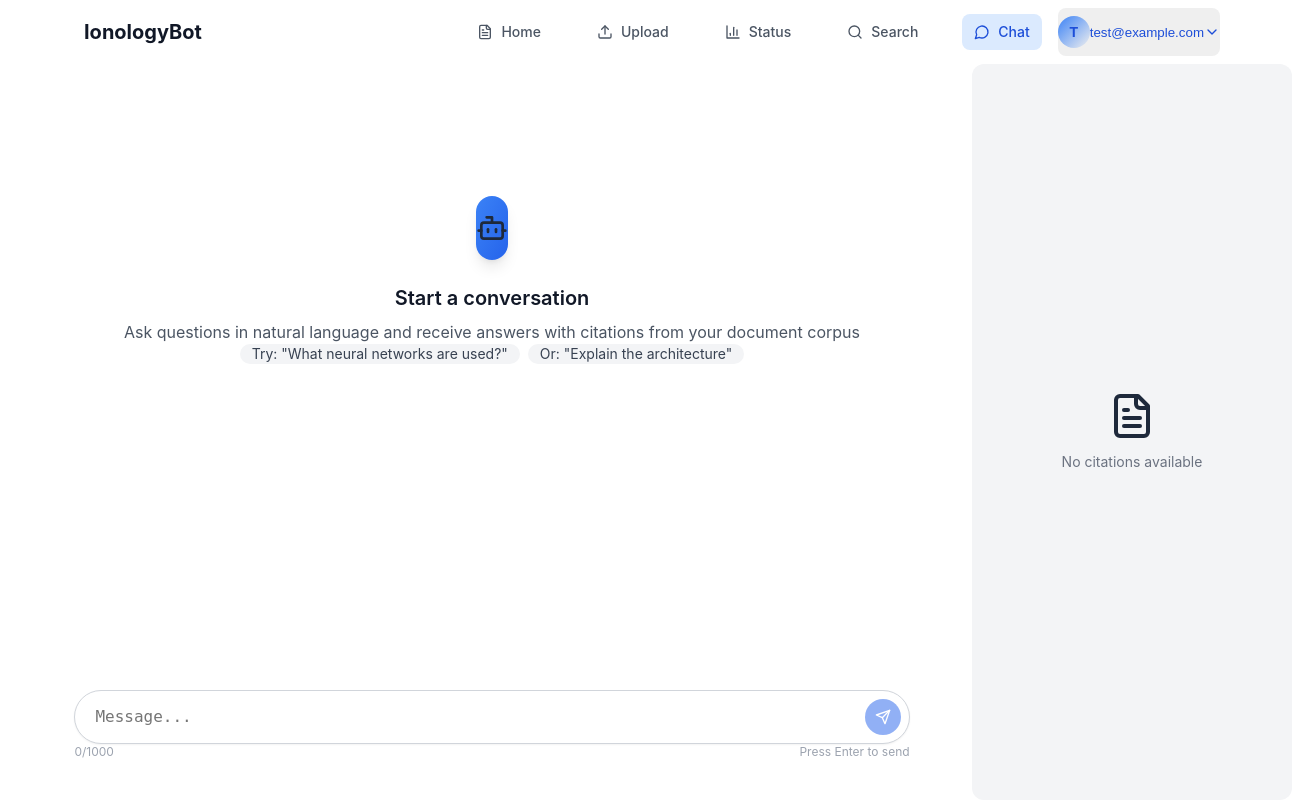
Test: Chat Integration Tests › displays user-friendly error message when API returns 400 error
Type "test message" into the text box with placeholder "Message..." at [492, 717], box [75,691,909,743]
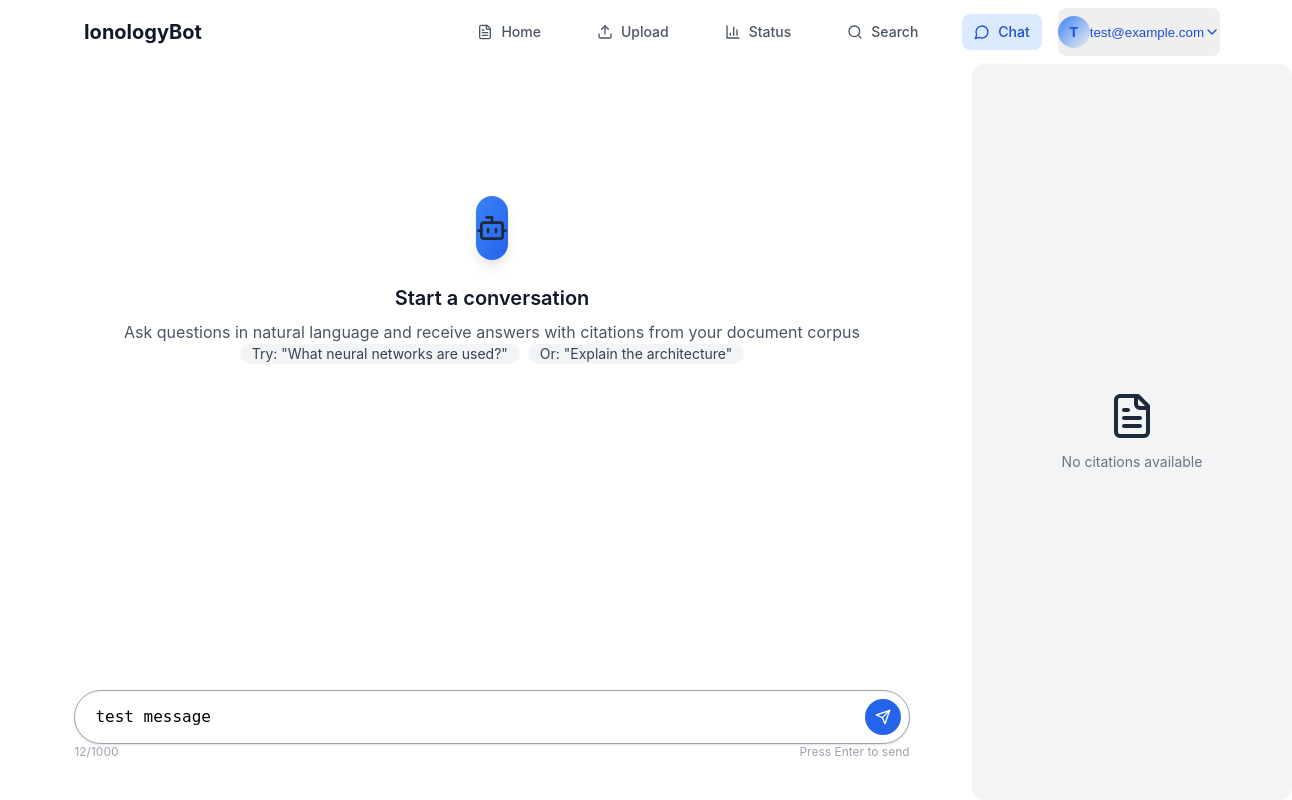
Click the submit button at [883, 717], box [865,699,901,735]
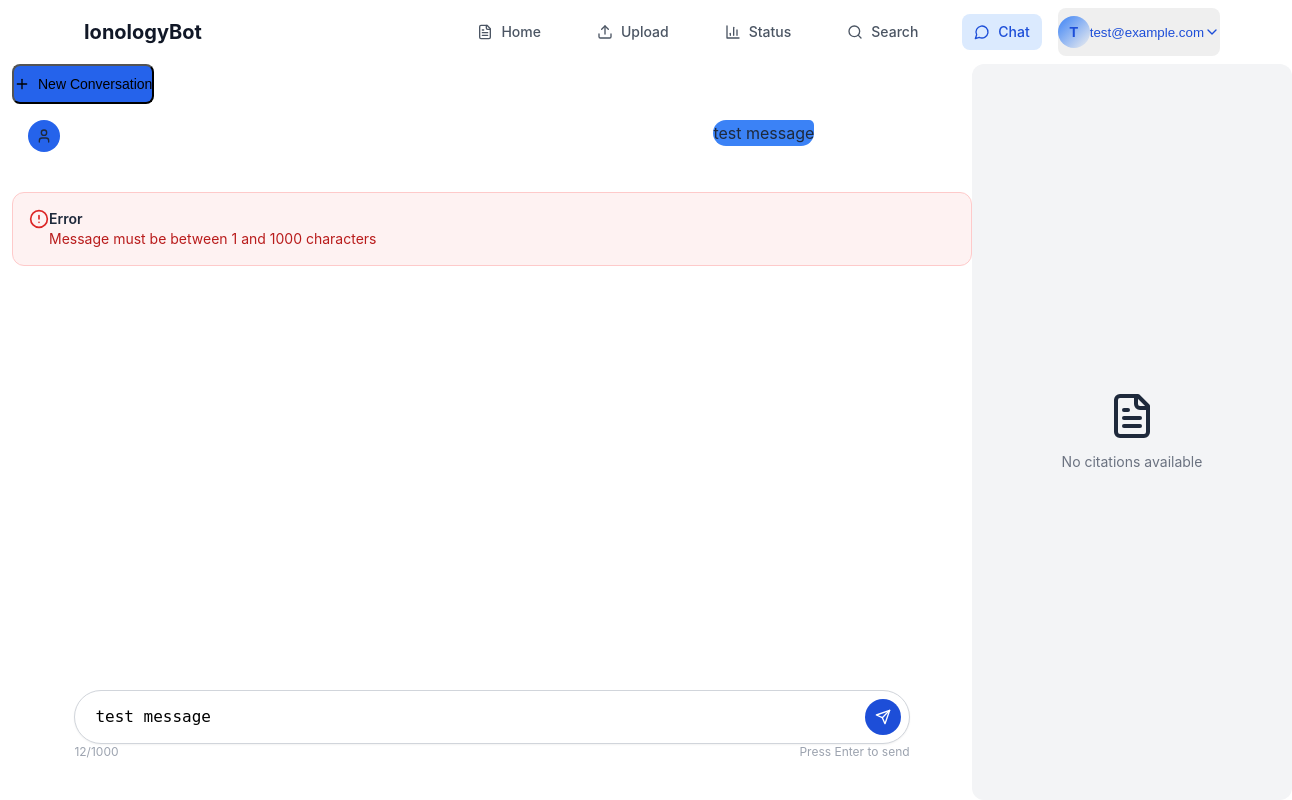
Result: the heading "Error" is shown at [49,210,82,227]
Result: the text "Message must be between 1 and 1000 characters" is shown at [49,230,376,247]
